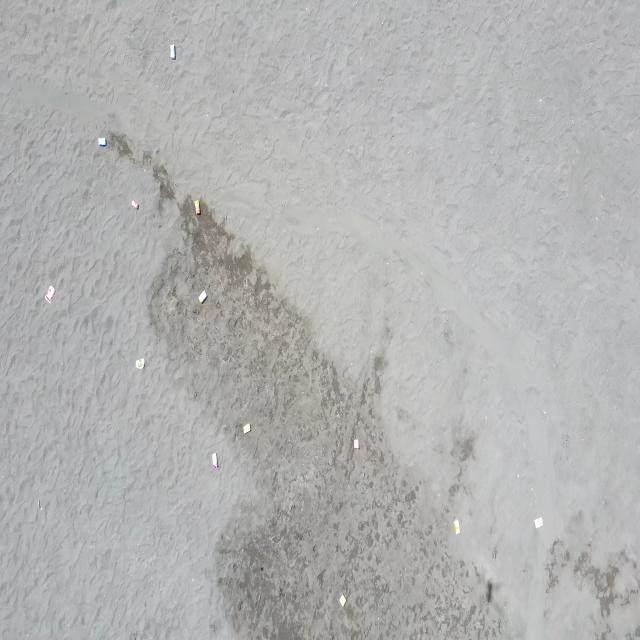retort-pouch: (44, 285, 56, 303), (198, 289, 210, 304), (168, 43, 178, 60), (453, 519, 462, 536), (135, 357, 147, 369), (211, 453, 220, 469), (534, 517, 544, 530), (340, 594, 349, 608), (98, 137, 108, 149), (243, 423, 253, 435), (352, 438, 361, 450), (193, 203, 201, 216), (132, 201, 141, 212)
